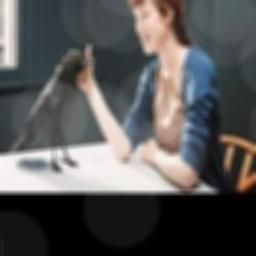Crow: (10, 52, 96, 173)
